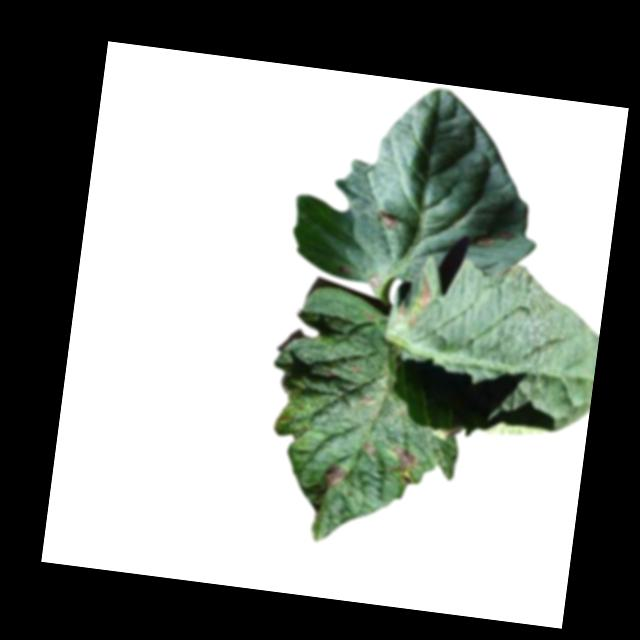Early_blight: (395, 275, 437, 330), (391, 443, 424, 478), (323, 463, 347, 489), (374, 207, 401, 229), (367, 272, 383, 289), (364, 440, 376, 455)
